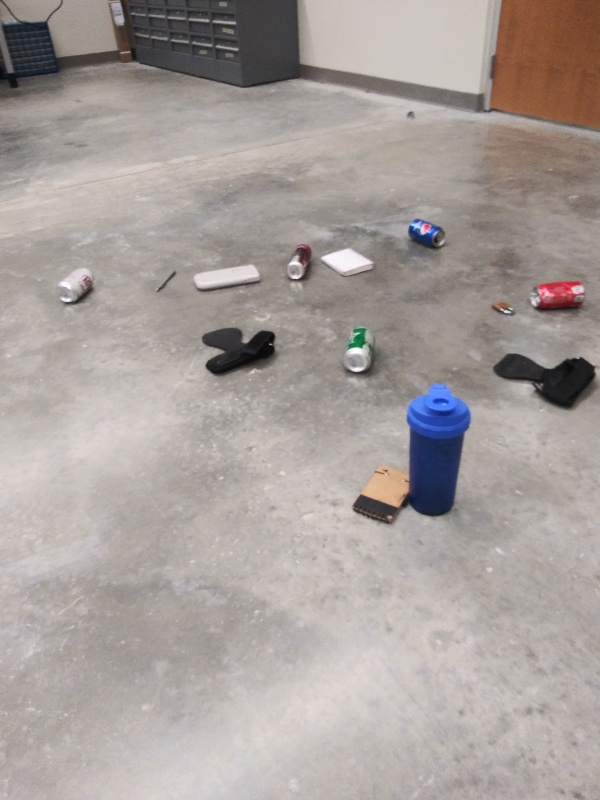can: (525, 278, 590, 315), (52, 263, 100, 308), (342, 322, 378, 377), (404, 215, 448, 251), (283, 239, 318, 284)
